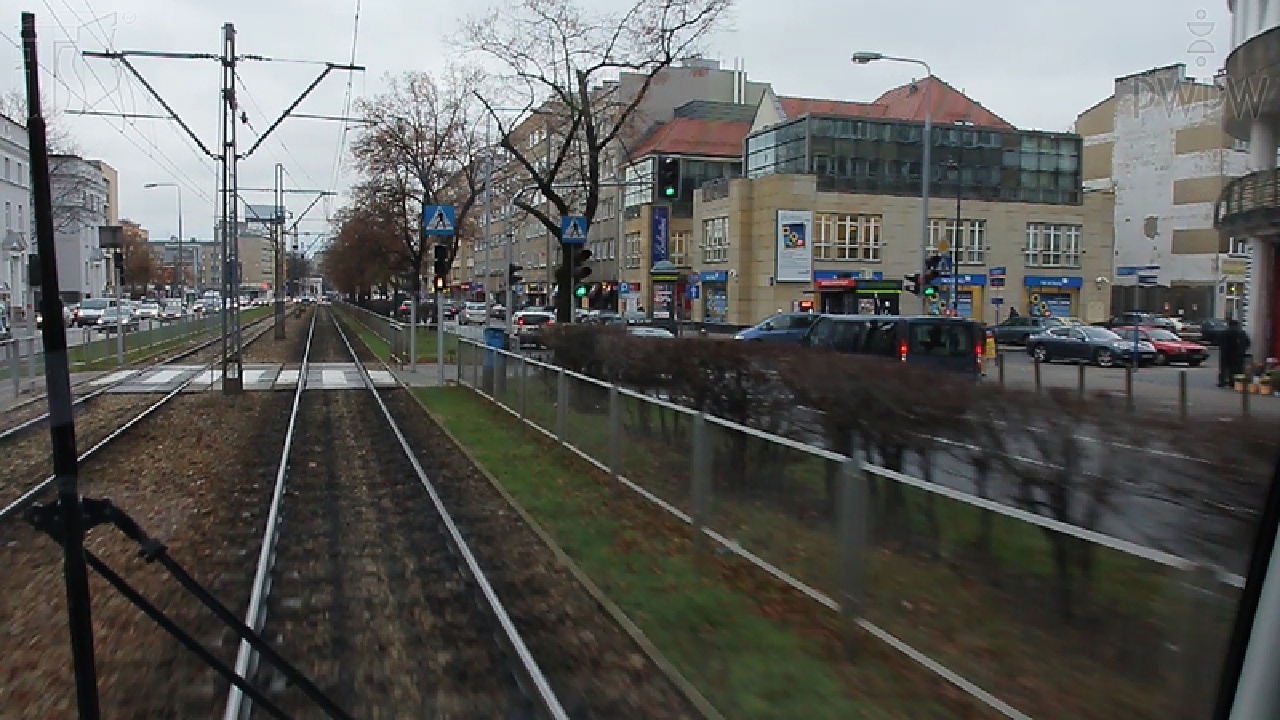D6: (424, 204, 455, 234), (562, 216, 587, 244)
Green: (573, 247, 589, 299), (662, 157, 674, 196)
